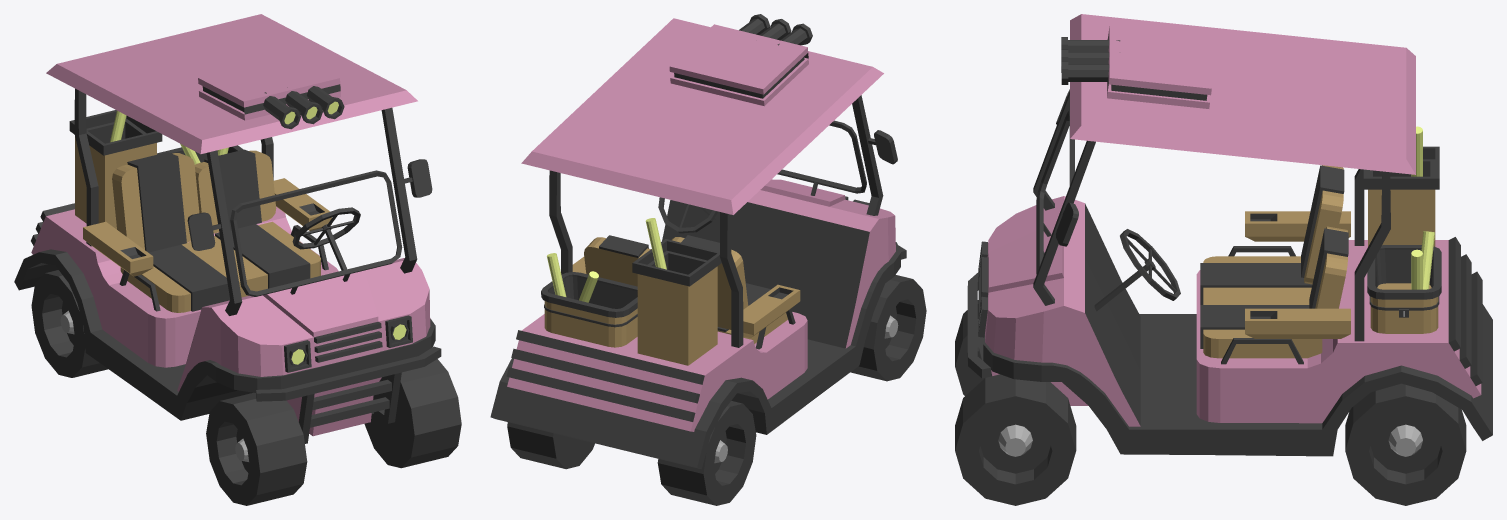
The model's file is Buggy.glb.
The picture shows the model from 3 angles, left to right: view 1: azimuth 30°, elevation 25°; view 2: azimuth 150°, elevation 25°; view 3: azimuth 270°, elevation 25°; orthographic projection. The views are drawn at different scales.
Parts seen in each view (by area): view 1: Plane.001, Circle.001, Circle.048, Circle, Circle.005, Circle.006, Circle.047, Circle.002, Plane.008, Plane.004, Circle.007, Plane.006 (+14 smaller); view 2: Plane.001, Circle.048, Circle.005, Circle, Circle.001, Plane.004, Plane.008, Plane, Circle.002, Circle.007, Plane.006, Circle.047 (+5 smaller); view 3: Plane.001, Circle.001, Circle, Circle.005, Circle.048, Circle.006, Plane.008, Plane.006, Plane, Circle.002, Plane.004, Circle.047 (+9 smaller).
Boxes of the visible parts, bbox=[...] form: Plane.001: bbox=[46, 14, 417, 154]; Circle.001: bbox=[31, 270, 461, 505]; Circle.048: bbox=[177, 258, 430, 391]; Circle: bbox=[14, 249, 435, 420]; Circle.005: bbox=[31, 203, 338, 367]; Circle.006: bbox=[120, 221, 320, 312]; Circle.047: bbox=[112, 152, 199, 252]; Circle.002: bbox=[74, 88, 417, 315]; Plane.008: bbox=[198, 54, 340, 120]; Plane.004: bbox=[69, 110, 162, 229]; Circle.007: bbox=[194, 149, 276, 233]; Plane.006: bbox=[83, 178, 331, 276]; Plane.001: bbox=[521, 18, 883, 214]; Circle.048: bbox=[662, 179, 895, 348]; Circle.005: bbox=[506, 312, 807, 431]; Circle: bbox=[490, 242, 900, 469]; Circle.001: bbox=[507, 275, 926, 505]; Plane.004: bbox=[632, 239, 721, 365]; Plane.008: bbox=[669, 24, 808, 106]; Plane: bbox=[541, 272, 637, 347]; Circle.002: bbox=[549, 95, 883, 347]; Circle.007: bbox=[584, 235, 650, 286]; Plane.006: bbox=[572, 256, 800, 337]; Circle.047: bbox=[671, 235, 748, 329]; Plane.001: bbox=[1070, 14, 1415, 174]; Circle.001: bbox=[955, 310, 1466, 505]; Circle: bbox=[983, 304, 1492, 456]; Circle.005: bbox=[1196, 237, 1482, 423]; Circle.048: bbox=[978, 196, 1140, 426]; Circle.006: bbox=[1200, 256, 1322, 358]; Plane.008: bbox=[1107, 25, 1211, 108]; Plane.006: bbox=[1245, 211, 1350, 338]; Plane: bbox=[1367, 245, 1441, 333]; Circle.002: bbox=[1033, 91, 1390, 341]; Plane.004: bbox=[1363, 146, 1439, 246]; Circle.047: bbox=[1301, 165, 1344, 284].
Bounding box in the file's own units: 0.8522 × 1.22 × 1.49.
